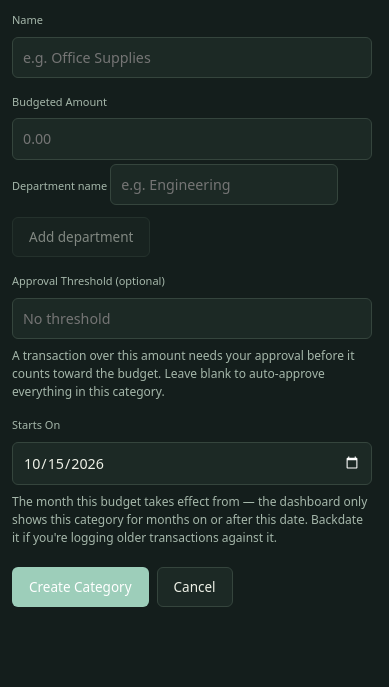
Test: inline department creation › shows the API error message and keeps the field open on failure
Type "Support" into the field with placeholder "e.g. Engineering" at (224, 184), box [110,164,338,205]
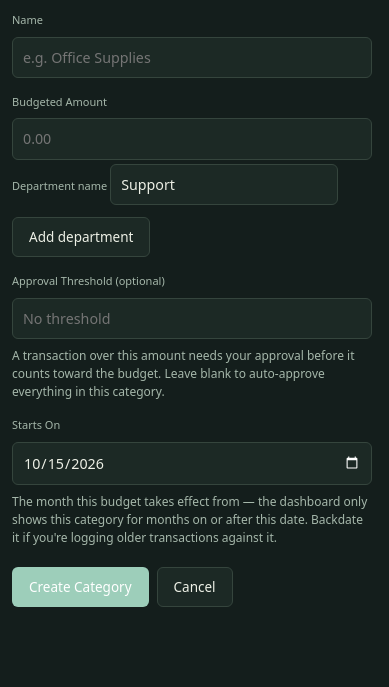
Click the button "Add department" at (81, 237), box [12,217,150,257]
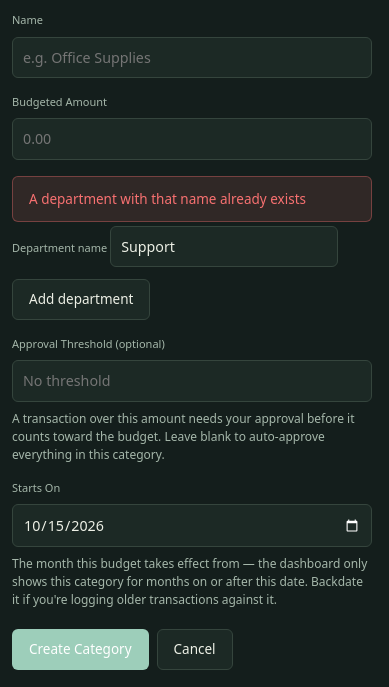
Expected: the text "A department with that name already exists" is shown, [12,176,372,222]
